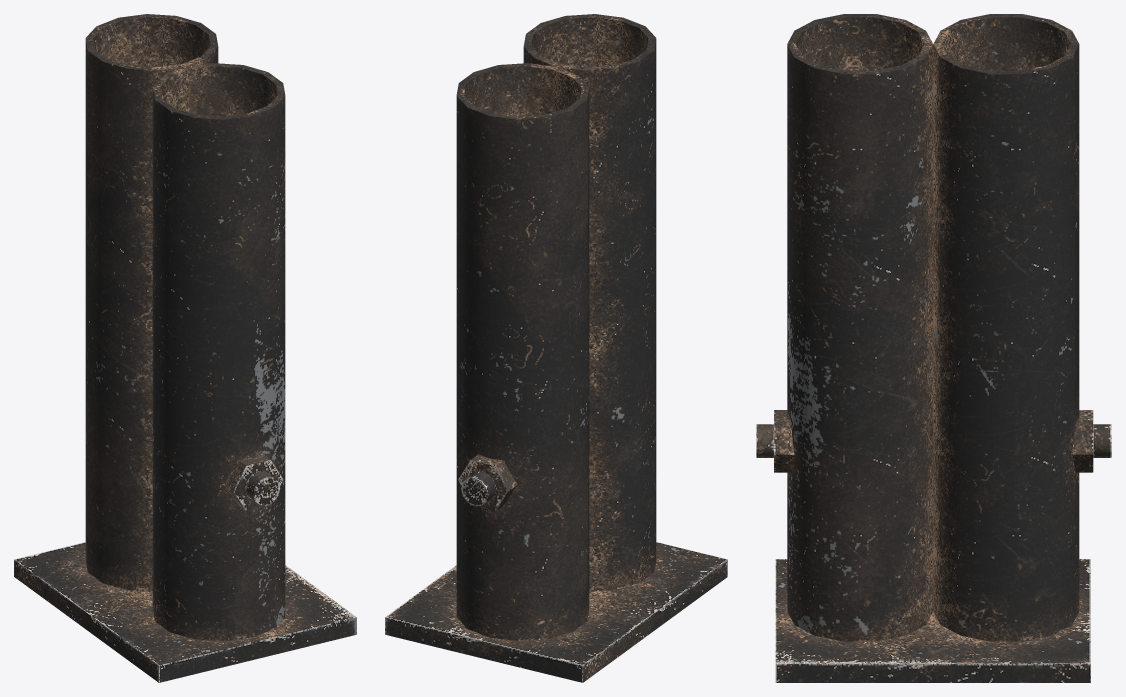
The model's file is SM_FencePost_Base_01.fbx.
3 views of the same model, side by side, from view 1: azimuth 30°, elevation 25°; view 2: azimuth 150°, elevation 25°; view 3: azimuth 270°, elevation 25° (orthographic). The views are drawn at different scales.
Visible parts, largest first — view 1: SM_FencePost_Base_01_LOD0; view 2: SM_FencePost_Base_01_LOD0; view 3: SM_FencePost_Base_01_LOD0.
Part boxes in pixels (left/top/right/bottom): SM_FencePost_Base_01_LOD0: left=14, top=14, right=356, bottom=682; SM_FencePost_Base_01_LOD0: left=385, top=14, right=727, bottom=682; SM_FencePost_Base_01_LOD0: left=756, top=14, right=1111, bottom=682.
Bounding box in the file's own units: 11.91 × 17.02 × 31.
Materials: 1 (1 with a texture image).
